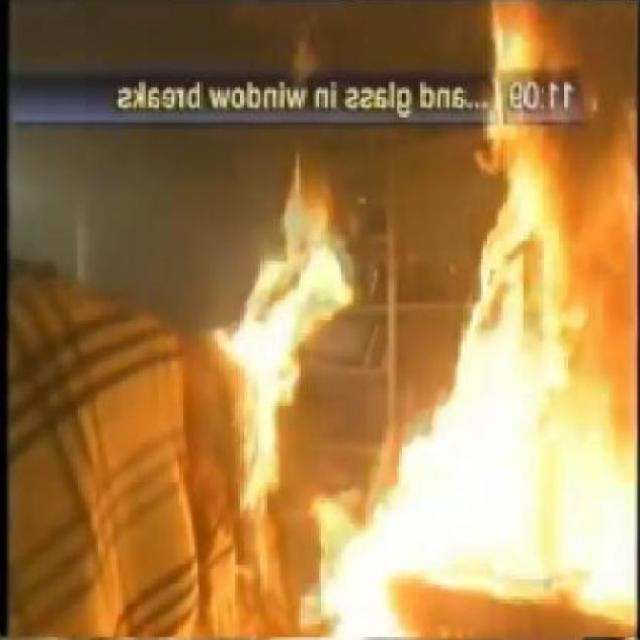smoke: (317, 0, 640, 640), (208, 152, 360, 512)
